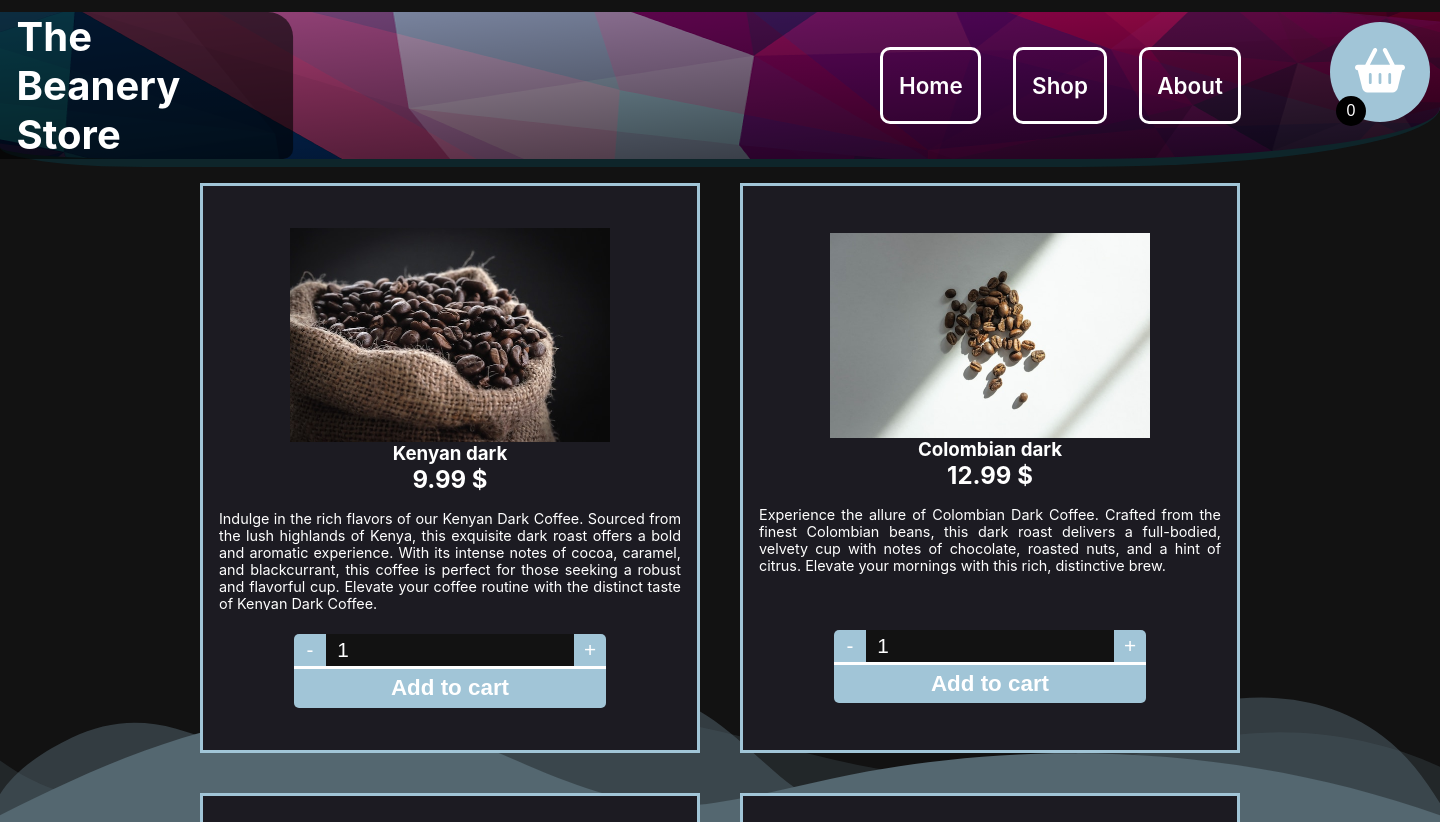
Scenario: Testing Product component › Subtracts 1 to state and renders input with new value when - btn is pushed
Click the link "Shop": (1060, 86) [1013,47,1107,124]
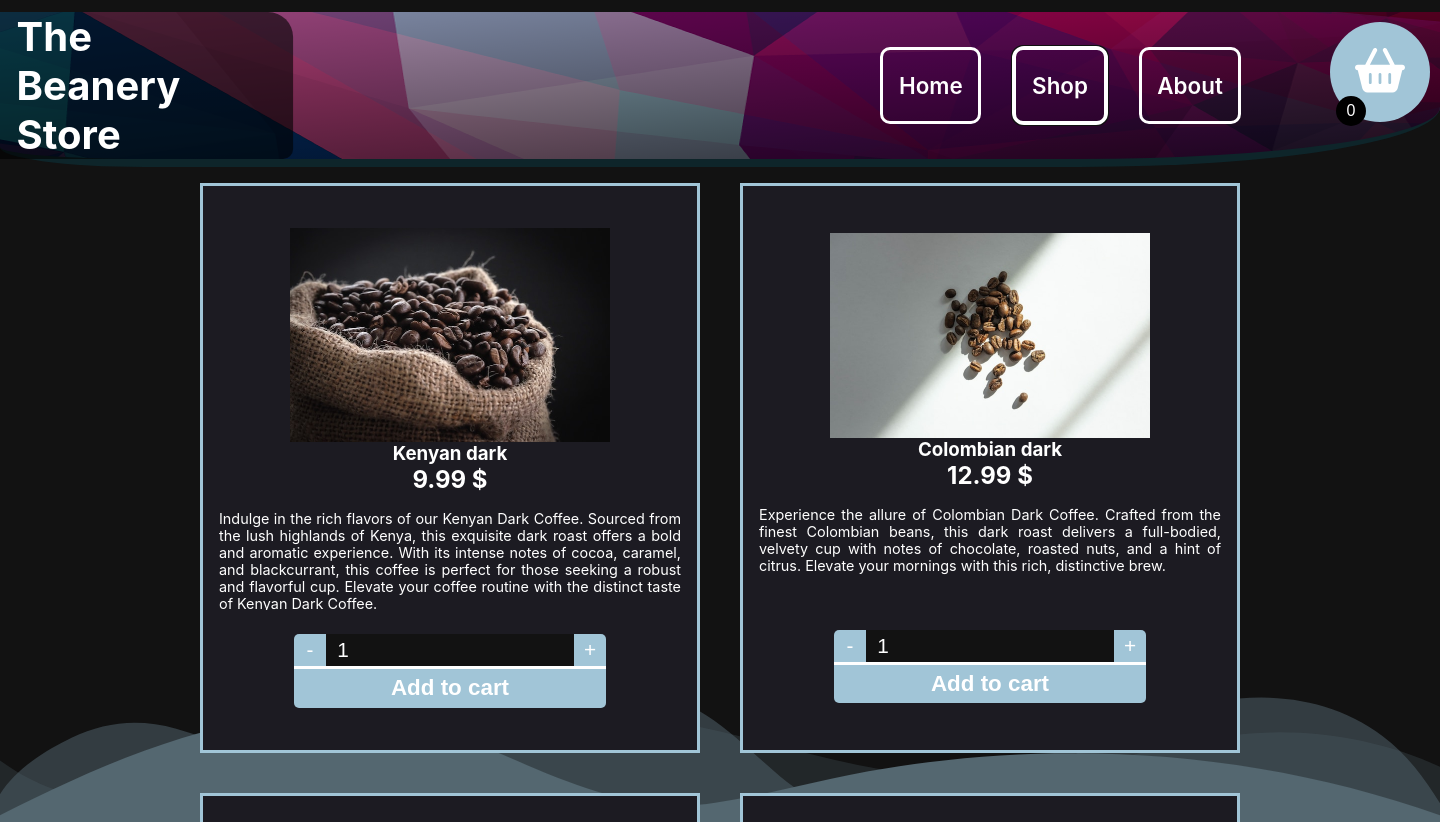
Click the button "-" below "9.99": (310, 650) [294,634,326,666]
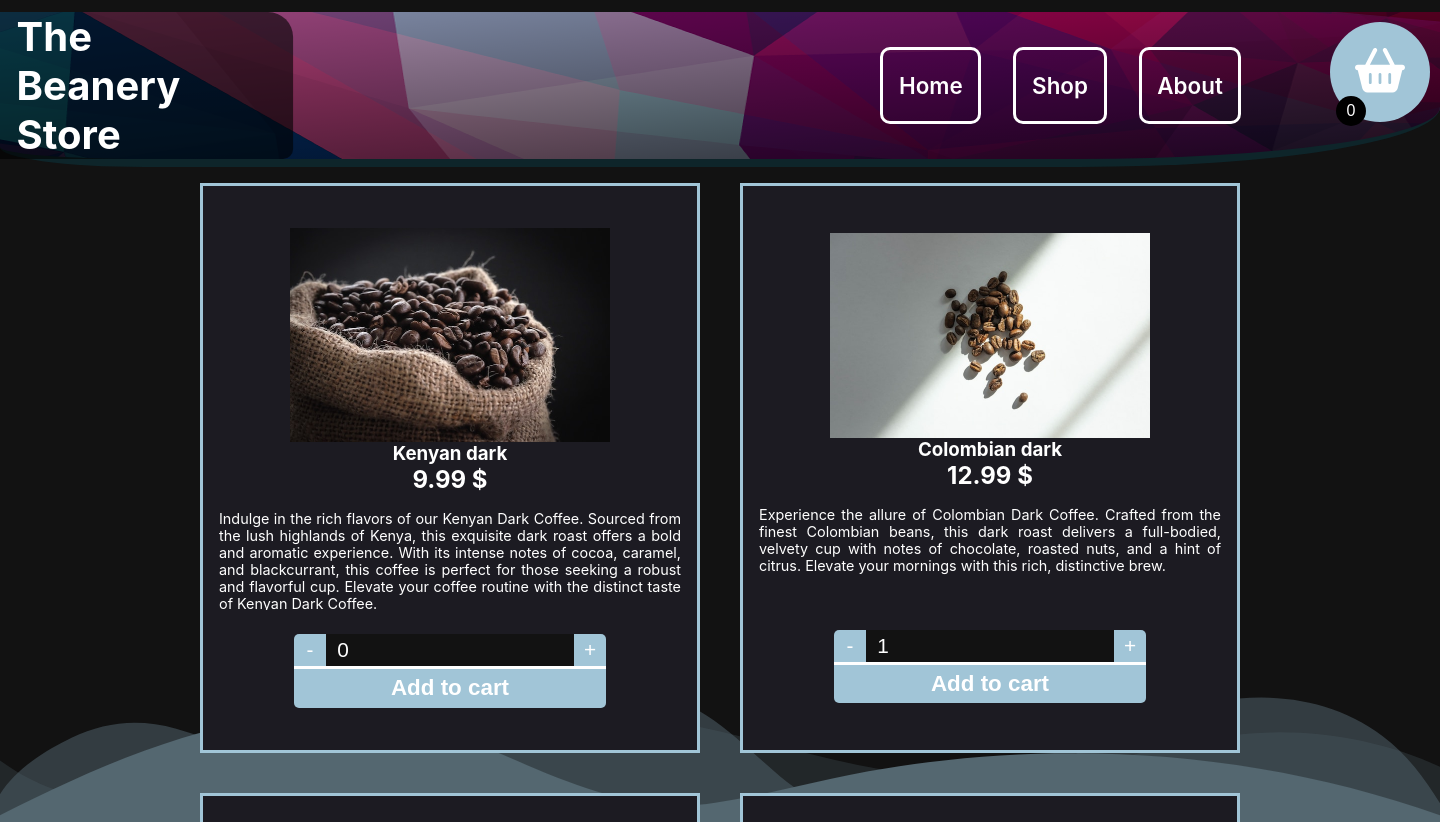
Check: the field below "9.99" holds "0", box [326,634,574,666]
